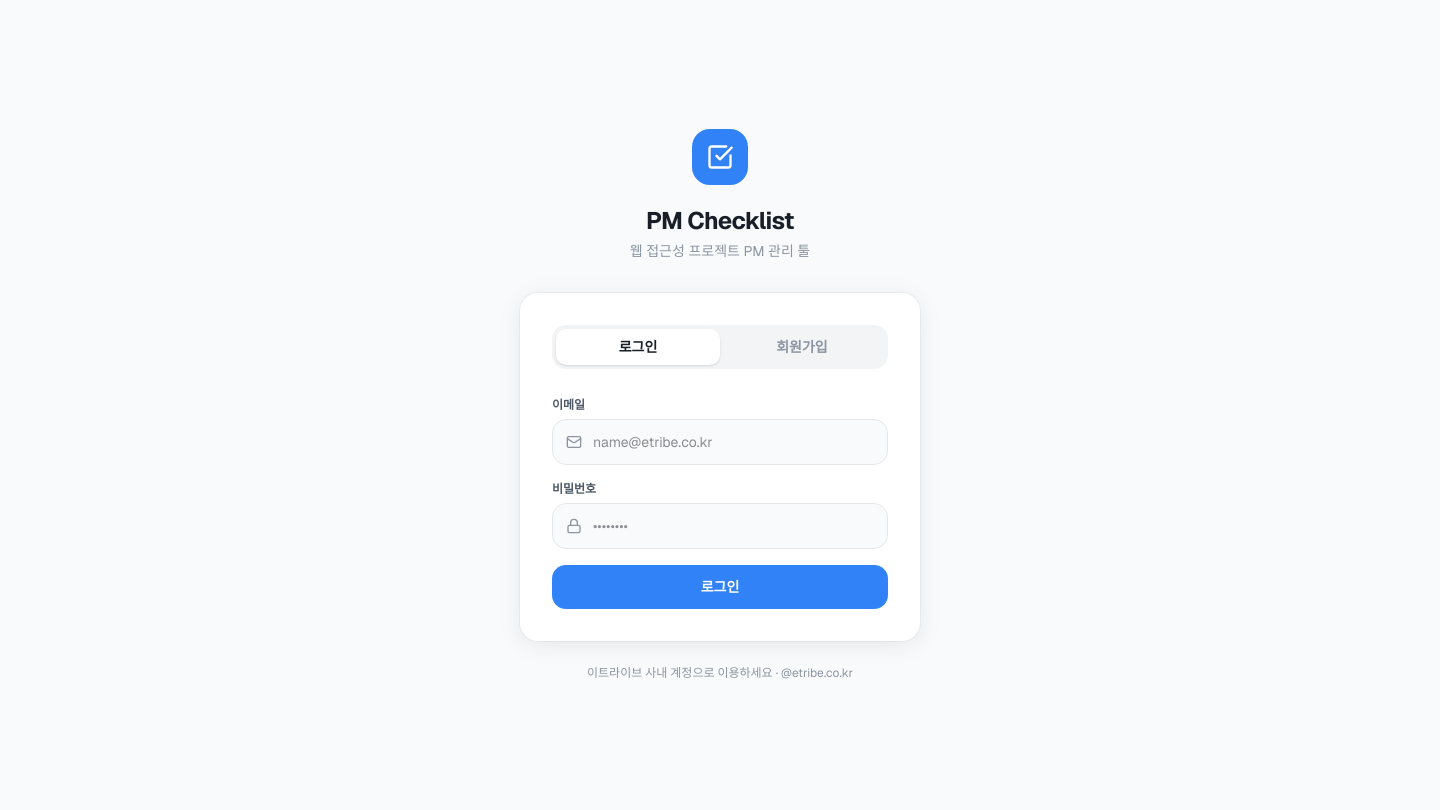
Test: Auth Component › enforces etribe.co.kr domain limit for signup
# Switch to Sign Up
Step 1. Click the button "회원가입" → (802, 347), box x1=720 y1=329 x2=884 y2=365
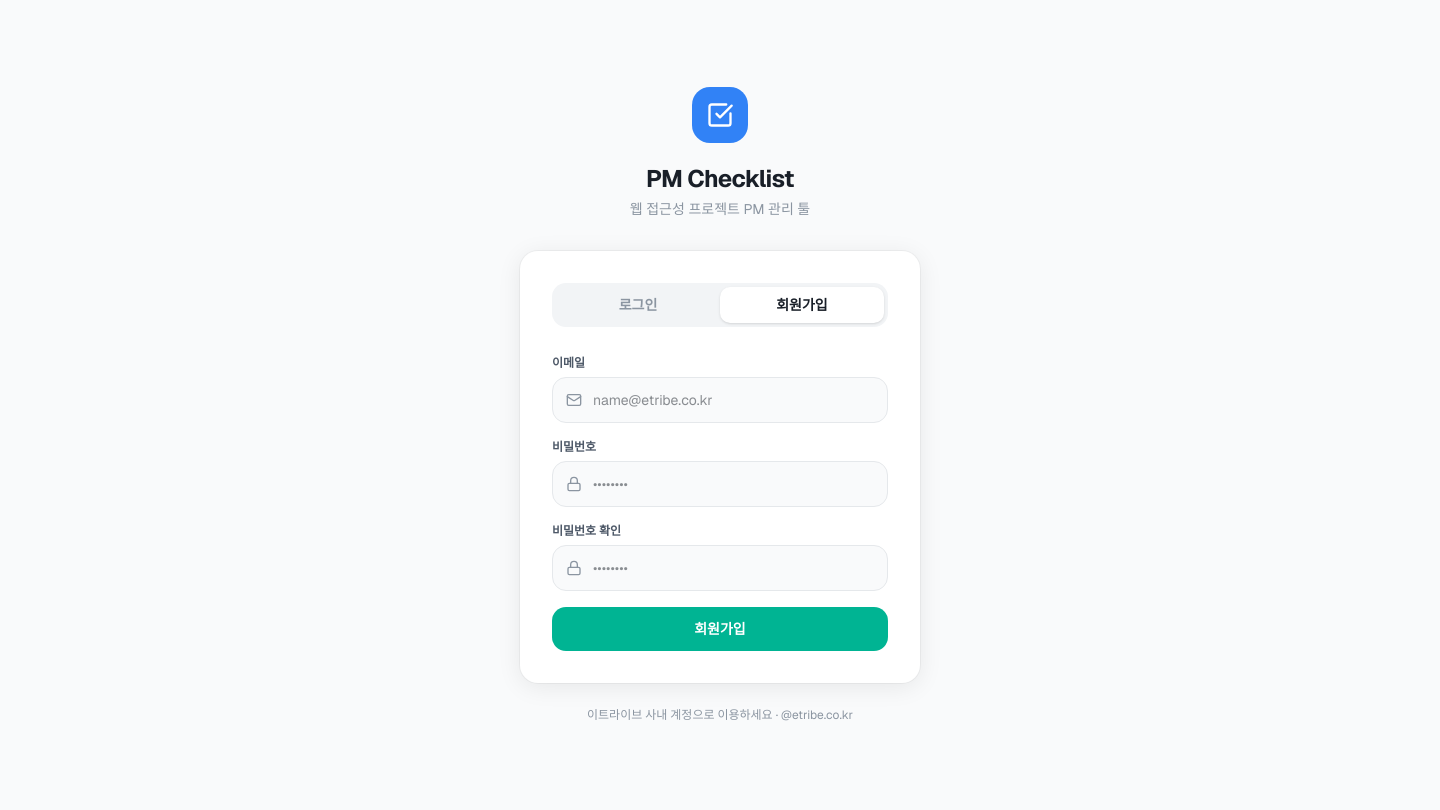
Step 2. Type "test@gmail.com" into the field with placeholder "name@etribe.co.kr" → (720, 400), box x1=552 y1=377 x2=888 y2=423
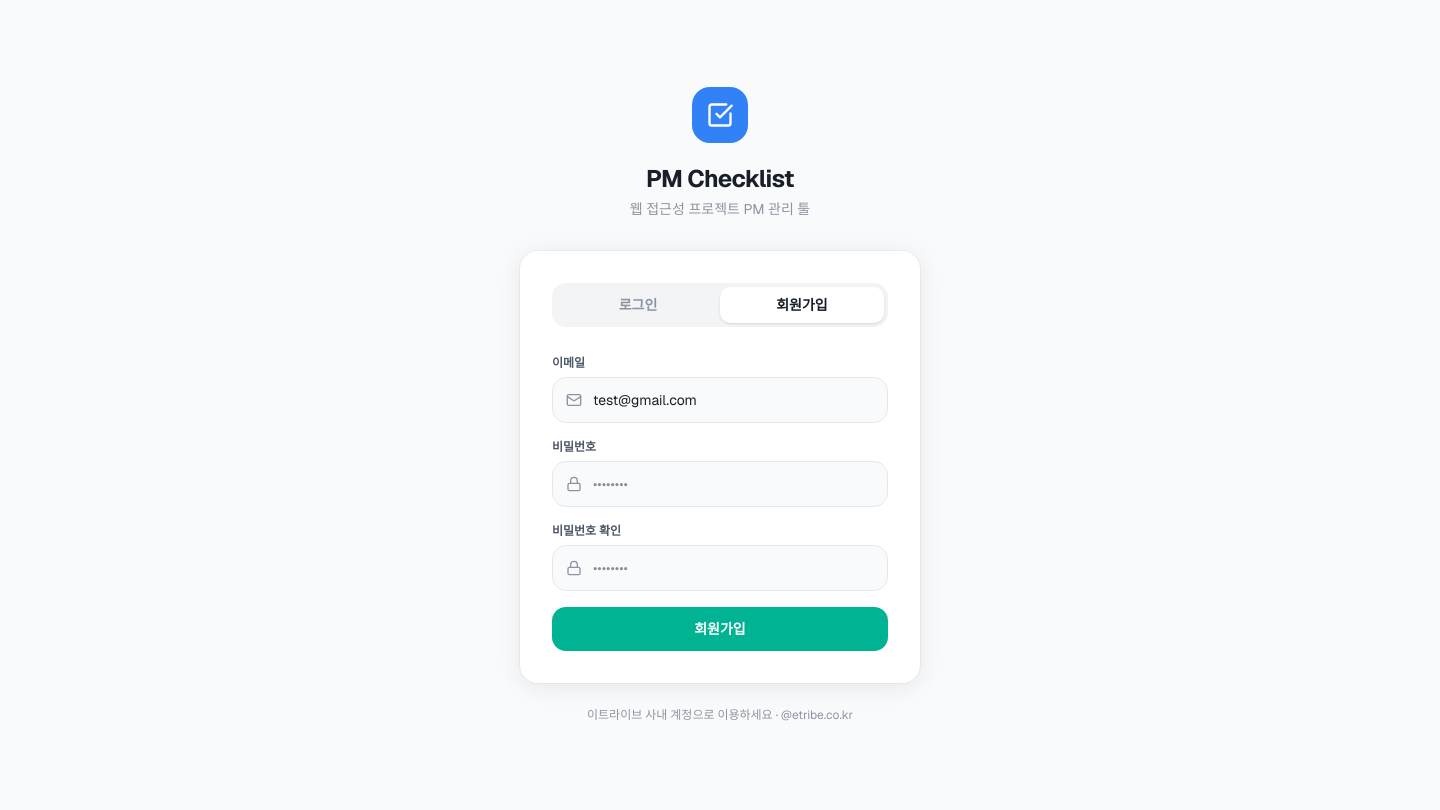
Step 3. Type "password123" into the password field with placeholder "••••••••" → (720, 484), box x1=552 y1=461 x2=888 y2=507
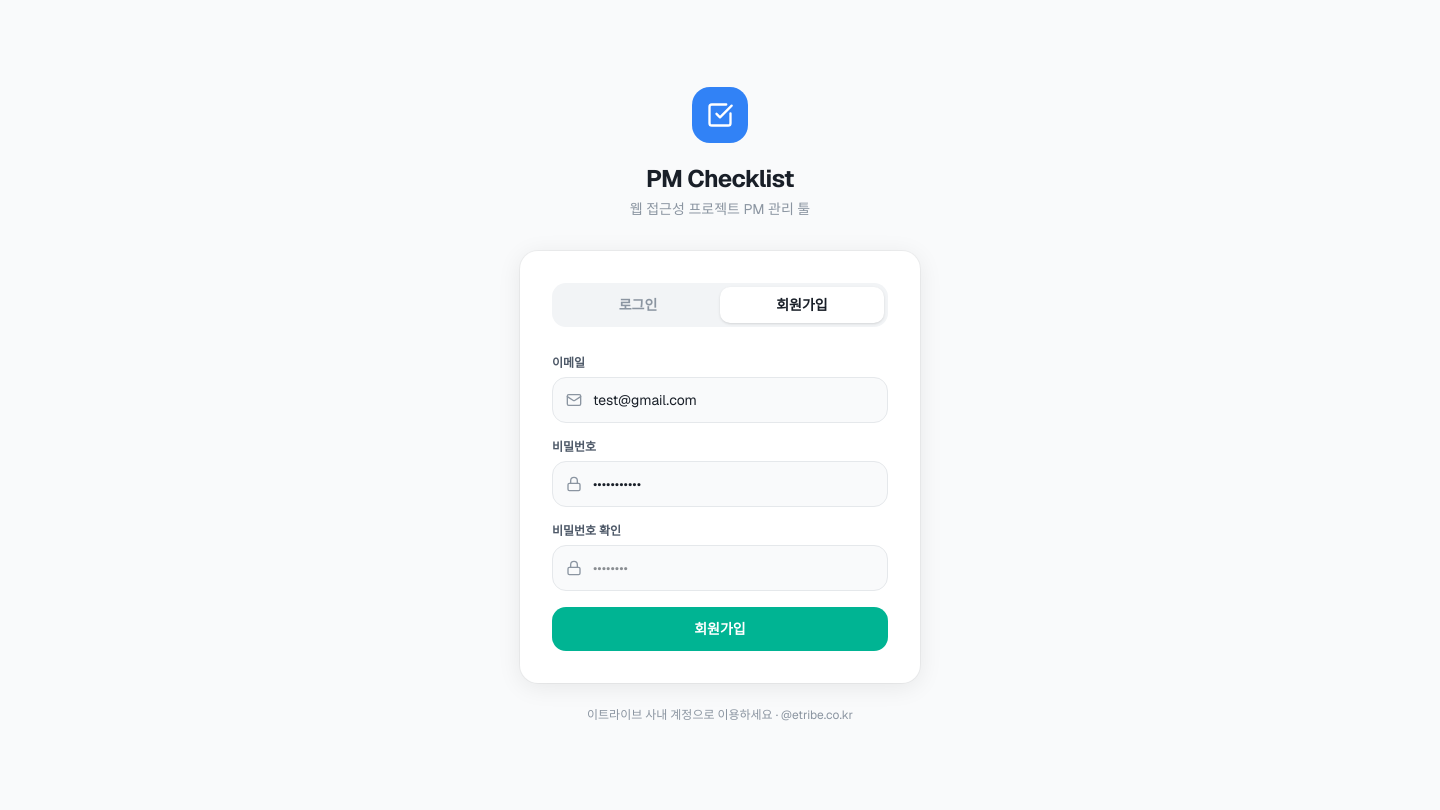
Step 4. Type "password123" into the password field with placeholder "••••••••" → (720, 568), box x1=552 y1=545 x2=888 y2=591
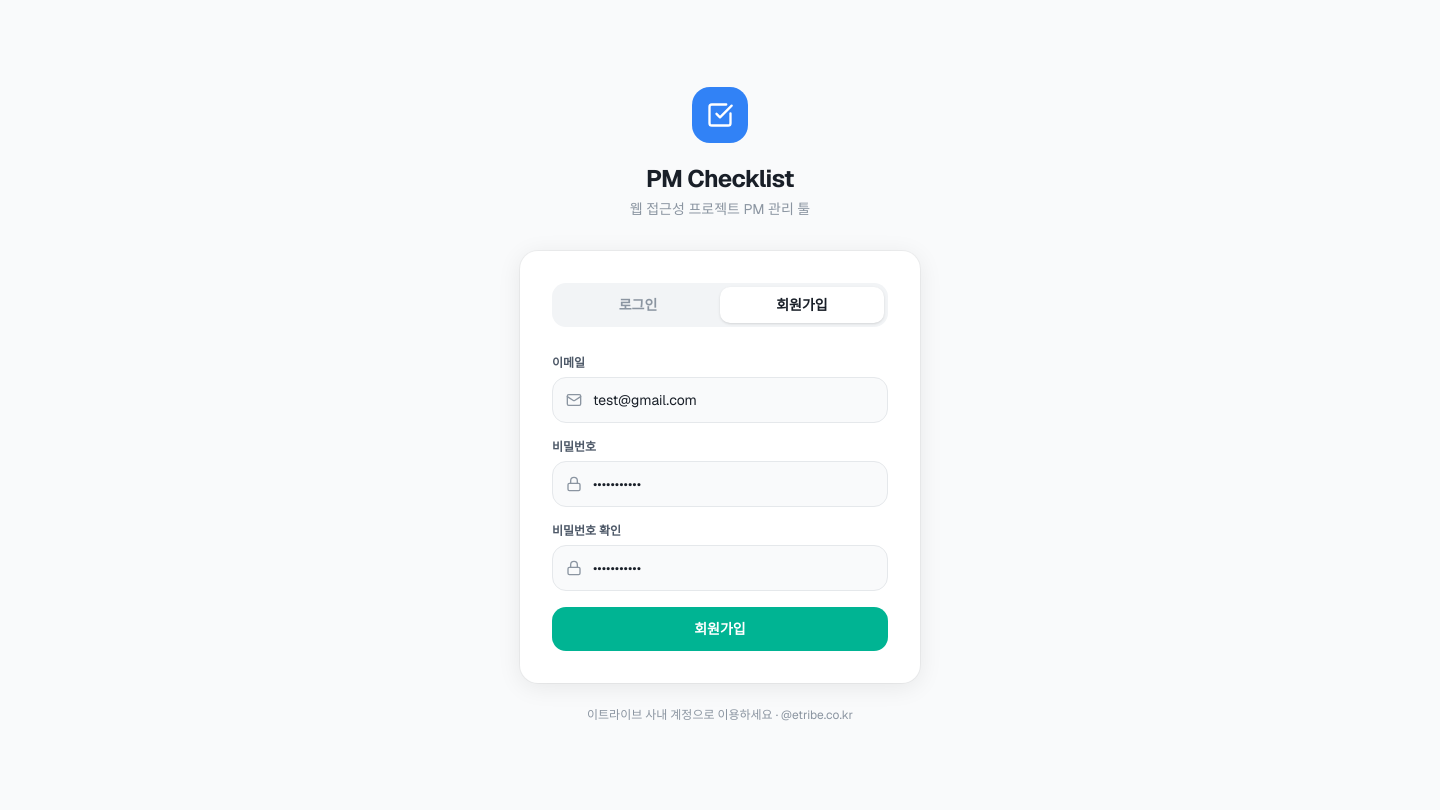
Step 5. Click the button "회원가입" → (720, 629), box x1=552 y1=607 x2=888 y2=651
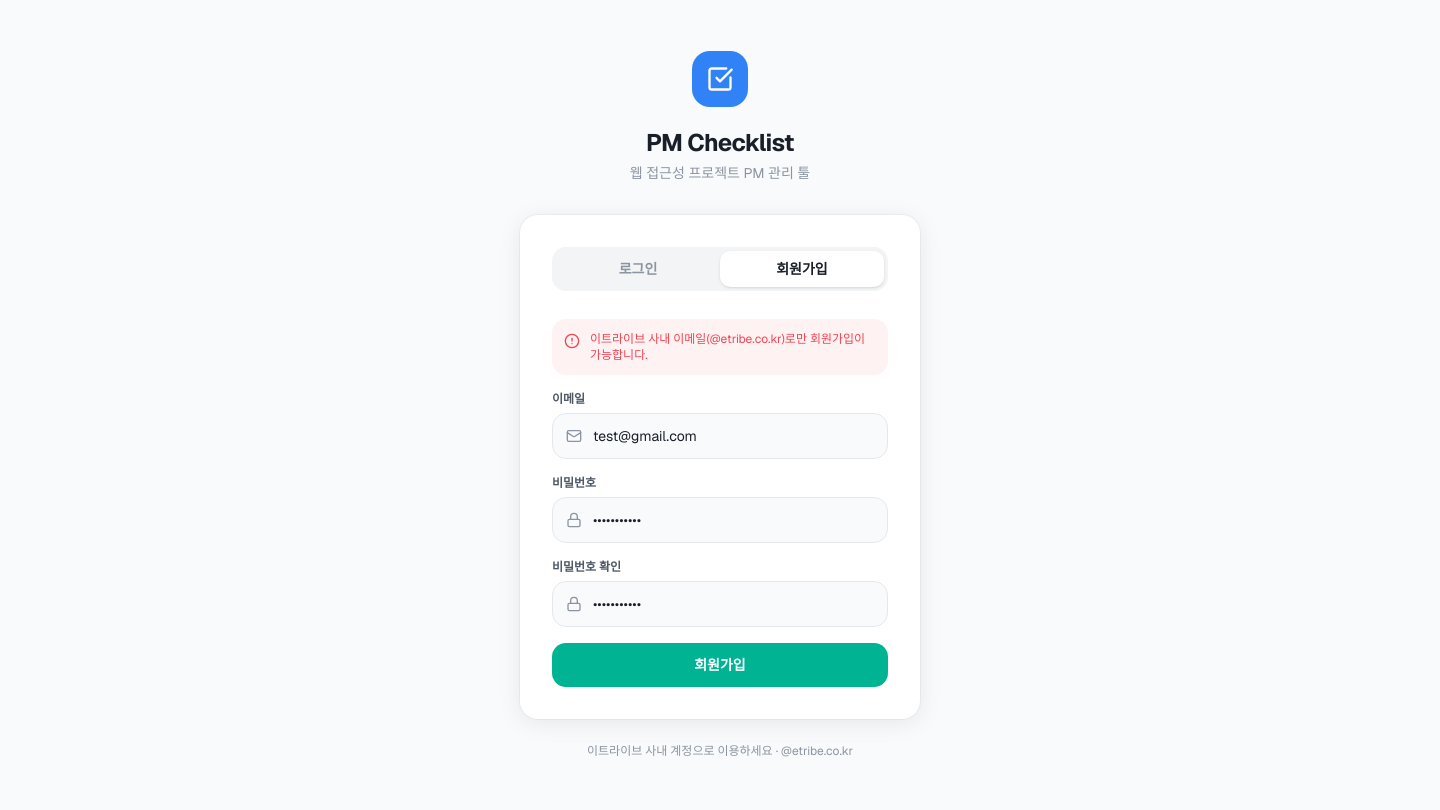
expect the text "이트라이브 사내 이메일(@etribe.co.kr)로만 회원가입이 가능합니다." is shown: met, box x1=590 y1=331 x2=876 y2=363
